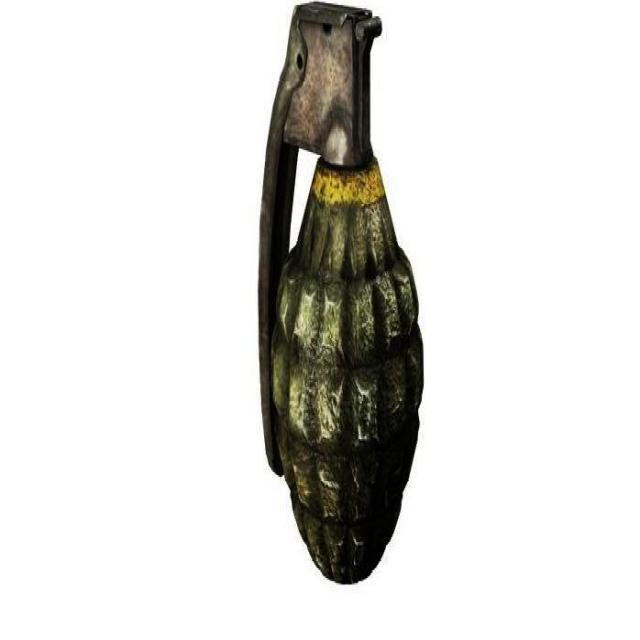grenade: (259, 1, 427, 585)
